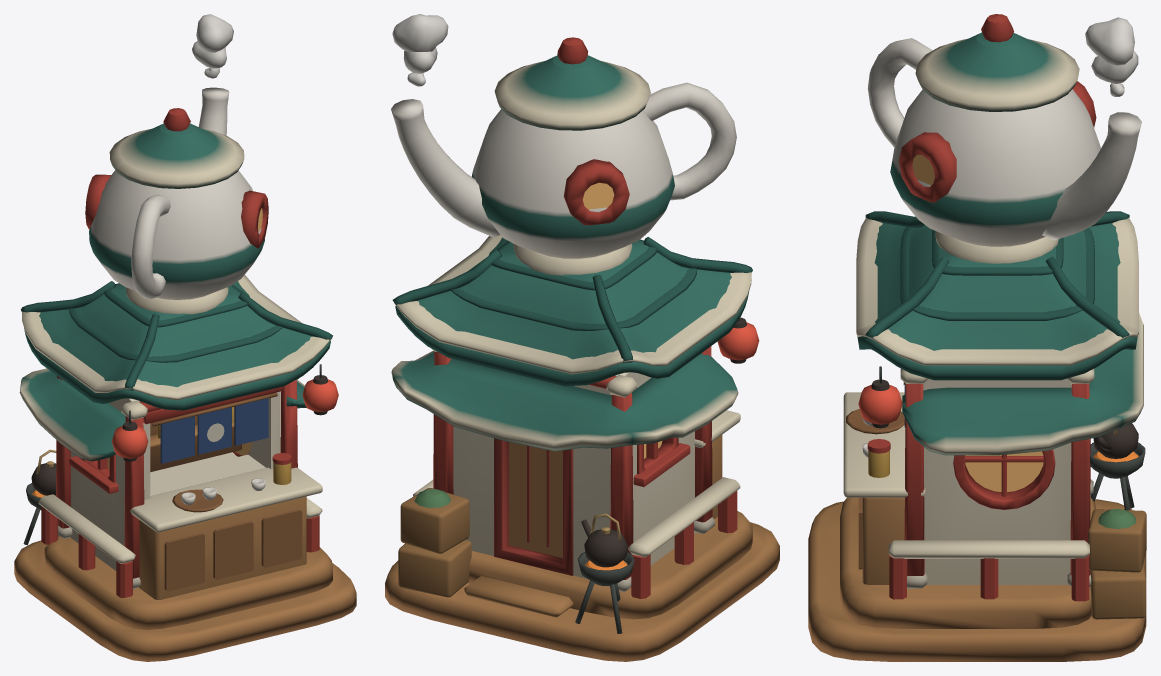
File: BLD_Tea_Kiosk_A_T3.fbx
3 views of the same model, side by side, from view 1: azimuth 30°, elevation 25°; view 2: azimuth 150°, elevation 25°; view 3: azimuth 270°, elevation 25° (orthographic). The views are drawn at different scales.
Visible parts, largest first — view 1: BLD_Tea_Kiosk_A_T3_Body_LOD0, BLD_Tea_Kiosk_A_T3_Noren_LOD0, BLD_Tea_Kiosk_A_T3_Puff3_LOD0, BLD_Tea_Kiosk_A_T3_Puff2_LOD0; view 2: BLD_Tea_Kiosk_A_T3_Body_LOD0, BLD_Tea_Kiosk_A_T3_Puff3_LOD0, BLD_Tea_Kiosk_A_T3_Puff2_LOD0; view 3: BLD_Tea_Kiosk_A_T3_Body_LOD0, BLD_Tea_Kiosk_A_T3_Puff3_LOD0, BLD_Tea_Kiosk_A_T3_Puff2_LOD0.
Boxes of the visible parts, <box> form: BLD_Tea_Kiosk_A_T3_Body_LOD0: <box>14,87,356,661</box>; BLD_Tea_Kiosk_A_T3_Noren_LOD0: <box>151,392,277,463</box>; BLD_Tea_Kiosk_A_T3_Puff3_LOD0: <box>196,14,233,52</box>; BLD_Tea_Kiosk_A_T3_Puff2_LOD0: <box>192,41,226,68</box>; BLD_Tea_Kiosk_A_T3_Body_LOD0: <box>385,37,779,661</box>; BLD_Tea_Kiosk_A_T3_Puff3_LOD0: <box>392,14,448,51</box>; BLD_Tea_Kiosk_A_T3_Puff2_LOD0: <box>403,47,437,73</box>; BLD_Tea_Kiosk_A_T3_Body_LOD0: <box>808,14,1146,661</box>; BLD_Tea_Kiosk_A_T3_Puff3_LOD0: <box>1085,17,1134,65</box>; BLD_Tea_Kiosk_A_T3_Puff2_LOD0: <box>1091,50,1138,83</box>.
Size of what is drawn, in the model's own units: 2.48 by 5.03 by 2.49.
